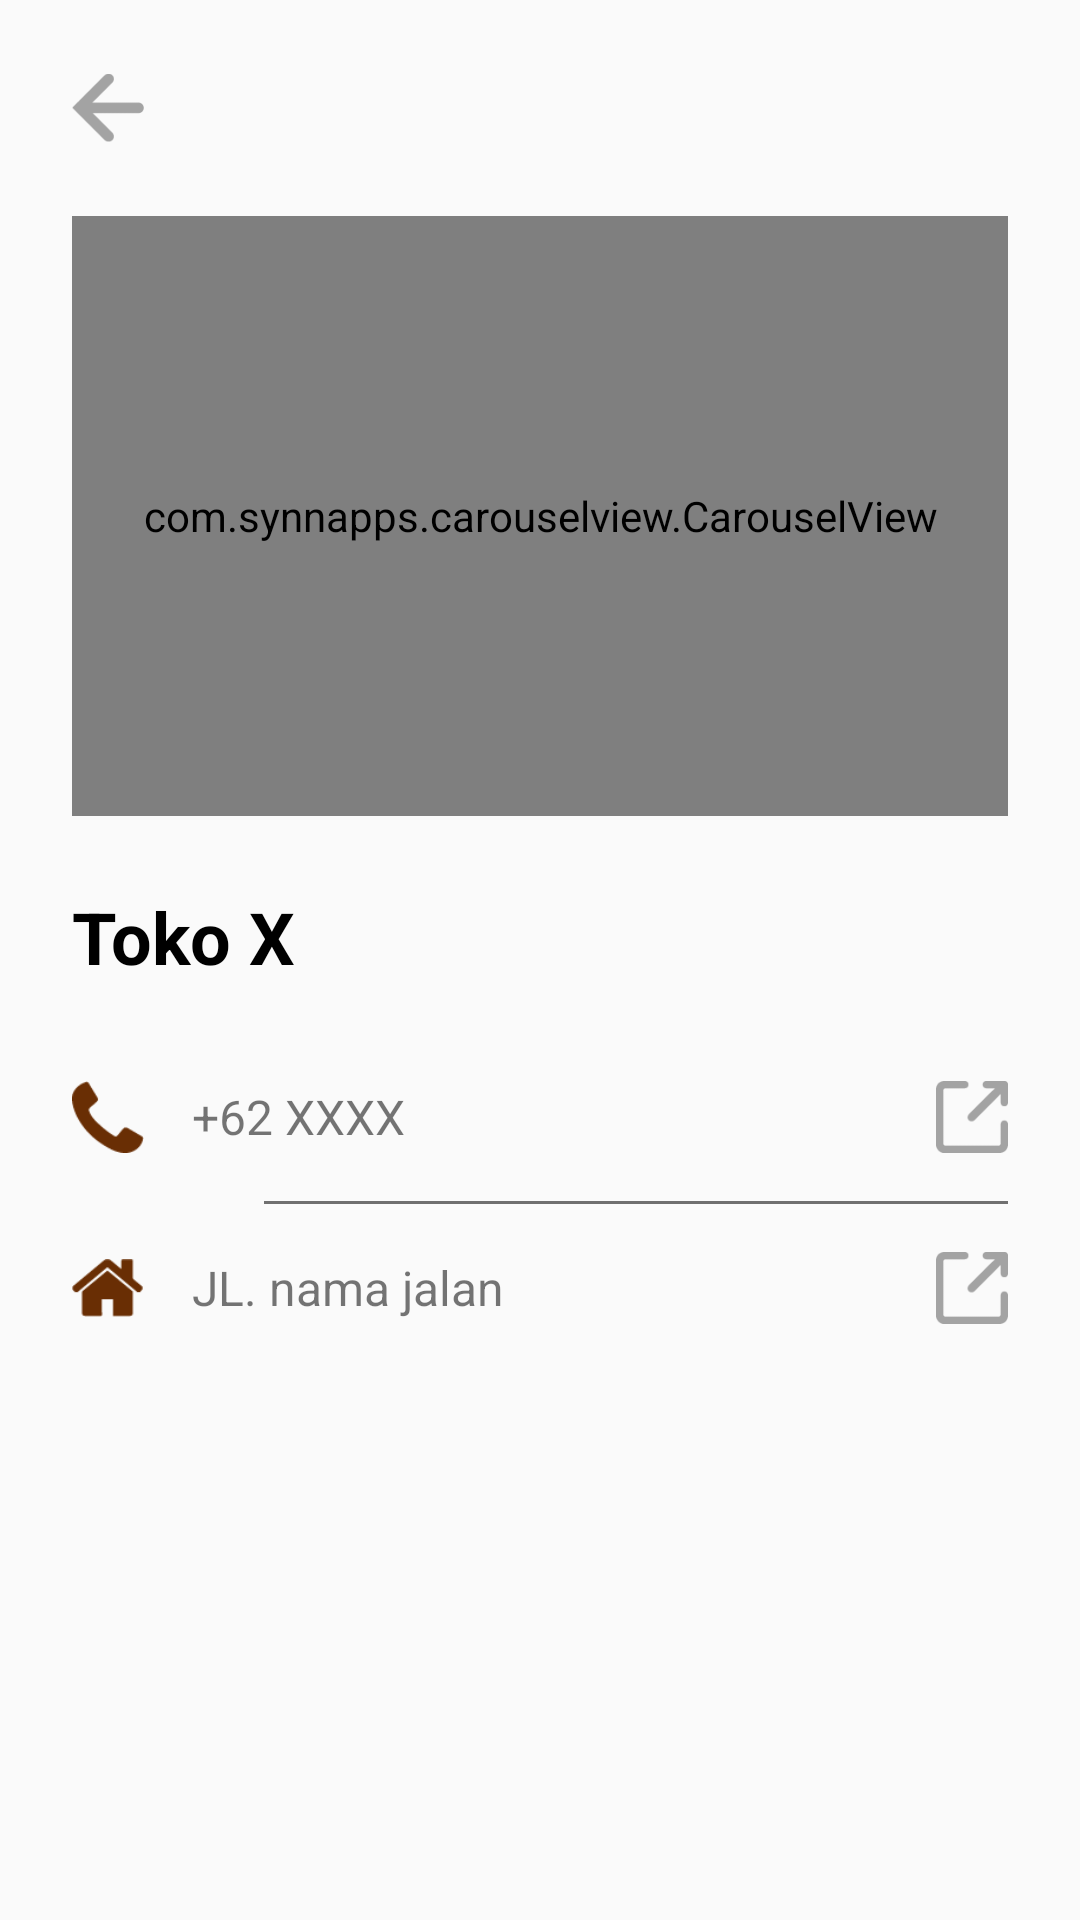

Screen size 1080px×1920px. Icon name, then its center in pixels as (x=x, y=y):
back: (x=108, y=108)
kontak alamat: (x=107, y=1288)
kontak telepon: (x=108, y=1117)
